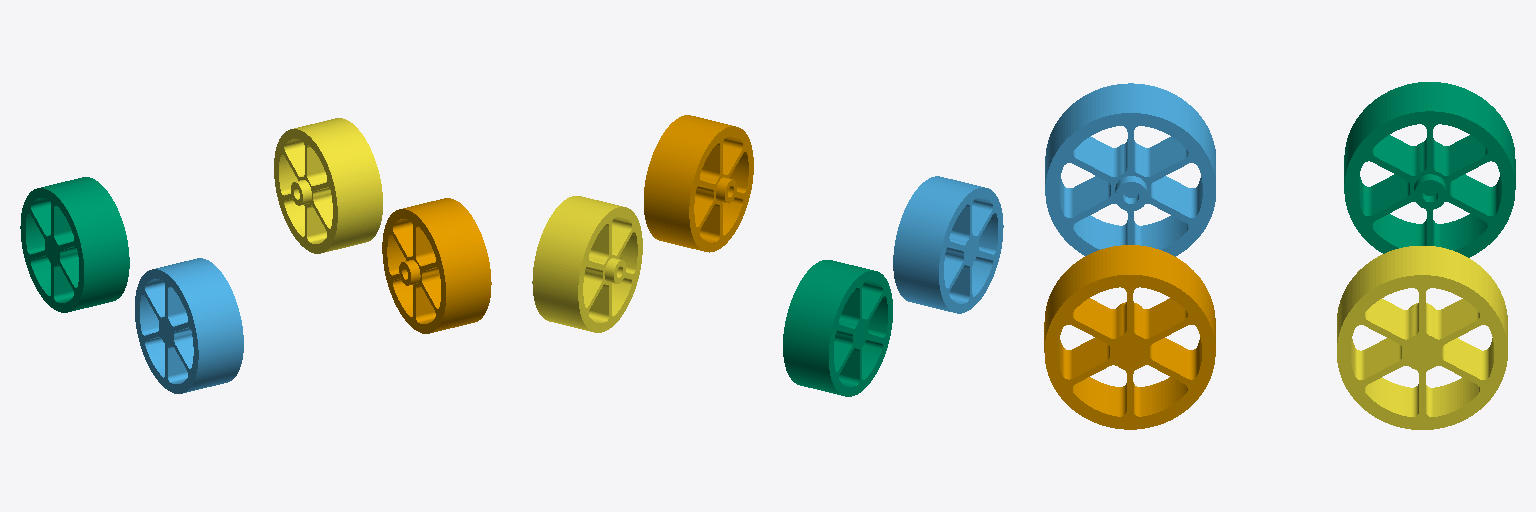
robot.urdf — autonomous_vehicle:
<?xml version="1.0"?>
<robot name="autonomous_vehicle">
	<link name="frontLeftWheelLink">
		<inertial>
			<origin xyz="0 0 0" rpy="0 0 0" />
			<mass value="10" />
			<inertia ixx="10" ixy="10" ixz="10" iyy="10" iyz="10" izz="10" />
		</inertial>
		<visual>
			<origin xyz="0 0 0" rpy="0 0 0" />
			<geometry>
				<mesh filename="model://autonomous_vehicle/meshes/dae/chas-Cut.003.dae" scale="0.02678 0.02678 0.02678" />
			</geometry>
		</visual>
		<collision>
			<origin xyz="0 0 0" rpy="0 0 0" />
			<geometry>
				<mesh filename="model://autonomous_vehicle/meshes/dae/chas-Cut.004.dae" scale="1.0 1.0 1.0" />
			</geometry>
		</collision>
	</link>

	<link name="frontRightWheelLink">
		<inertial>
			<origin xyz="0 0 0" rpy="0 0 0" />
			<mass value="10" />
			<inertia ixx="10" ixy="10" ixz="10" iyy="10" iyz="10" izz="10" />
		</inertial>
		<visual>
			<origin xyz="0 0 0" rpy="0 0 0" />
			<geometry>
				<mesh filename="model://autonomous_vehicle/meshes/dae/chas-Cut.dae" scale="0.02678 0.02678 0.02678" />
			</geometry>
		</visual>
		<collision>
			<origin xyz="0 0 0" rpy="0 0 0" />
			<geometry>
				<mesh filename="model://autonomous_vehicle/meshes/dae/chas-Cut.006.dae" scale="1.0 1.0 1.0" />
			</geometry>
		</collision>
	</link>

	<link name="rearRightWheelLink">
		<inertial>
			<origin xyz="0 0 0" rpy="0 0 0" />
			<mass value="10" />
			<inertia ixx="10" ixy="10" ixz="10" iyy="10" iyz="10" izz="10" />
		</inertial>
		<visual>
			<origin xyz="0 0 0" rpy="0 0 0" />
			<geometry>
				<mesh filename="model://autonomous_vehicle/meshes/dae/chas-Cut.001.dae" scale="0.02678 0.02678 0.02678" />
			</geometry>
		</visual>
		<collision>
			<origin xyz="0 0 0" rpy="0 0 0" />
			<geometry>
				<mesh filename="model://autonomous_vehicle/meshes/dae/chas-Cut.007.dae" scale="1.0 1.0 1.0" />
			</geometry>
		</collision>
	</link>

	<link name="rearLeftWheelLink">
		<inertial>
			<origin xyz="0 0 0" rpy="0 0 0" />
			<mass value="10" />
			<inertia ixx="10" ixy="10" ixz="10" iyy="10" iyz="10" izz="10" />
		</inertial>
		<visual>
			<origin xyz="0 0 0" rpy="0 0 0" />
			<geometry>
				<mesh filename="model://autonomous_vehicle/meshes/dae/chas-Cut.002.dae" scale="0.02678 0.02678 0.02678" />
			</geometry>
		</visual>
		<collision>
			<origin xyz="0 0 0" rpy="0 0 0" />
			<geometry>
				<mesh filename="model://autonomous_vehicle/meshes/dae/chas-Cut.005.dae" scale="1.0 1.0 1.0" />
			</geometry>
		</collision>
	</link>

	<link name="chassisLink">
		<inertial>
			<origin xyz="0 0 0" rpy="0 0 0" />
			<mass value="2" />
			<inertia ixx="10" ixy="10" ixz="10" iyy="10" iyz="10" izz="10" />
		</inertial>
		<visual>
			<origin xyz="0 0 0" rpy="0 0 0" />
			<geometry>
				<mesh filename="model://autonomous_vehicle/meshes/dae/Bottom.002.dae" scale="0.01431 0.01431 0.01431" />
			</geometry>
		</visual>
		<collision>
			<origin xyz="0 0 0" rpy="0 0 0" />
			<geometry>
				<mesh filename="model://autonomous_vehicle/meshes/dae/Bottom.003.dae" scale="1.0 1.0 1.0" />
			</geometry>
		</collision>
	</link>

	<link name="onboardCameraLink">
		<inertial>
			<origin xyz="0 0 0" rpy="0 0 0" />
			<mass value="0.1" />
			<inertia ixx="10" ixy="10" ixz="10" iyy="10" iyz="10" izz="10" />
		</inertial>
	</link>

	<link name="mapCameraLink" />

	<joint name="onboardCameraJoint" type="fixed">
		<origin xyz="0 -3.2 0.4" rpy="0 0 -1.57" />
		<parent link="chassisLink" />
		<child link="onboardCameraLink" />
		<axis xyz="0 0 1.0" />
	</joint>

	<joint name="mapCameraJoint" type="fixed">
		<origin xyz="0 0 20" rpy="0 1.57 -1.57" />
		<parent link="chassisLink" />
		<child link="mapCameraLink" />
		<axis xyz="0 0 1.0" />
	</joint>


	<joint name="frontLeftWheelJoint" type="continuous">
		<origin xyz="2.02598 -1.53082 -0.05739" rpy="1.5708 0 -1.5708" />
		<parent link="chassisLink" />
		<child link="frontLeftWheelLink" />
		<axis xyz="0 0 1.0" />
	</joint>

	<joint name="frontRightWheelJoint" type="continuous">
		<origin xyz="-2.01372 -1.51765 -0.05739" rpy="1.5708 0 1.5708" />
		<parent link="chassisLink" />
		<child link="frontRightWheelLink" />
		<axis xyz="0 0 1.0" />
	</joint>

	<joint name="rearRightWheelJoint" type="continuous">
		<origin xyz="-2.04563 0.93075 -0.05739" rpy="1.5708 0 1.5708" />
		<parent link="chassisLink" />
		<child link="rearRightWheelLink" />
		<axis xyz="0 0 1.0" />
	</joint>

	<joint name="rearLeftWheelJoint" type="continuous">
		<origin xyz="2.03577 0.86208 -0.05739" rpy="1.5708 0 -1.5708" />
		<parent link="chassisLink" />
		<child link="rearLeftWheelLink" />
		<axis xyz="0 0 1.0" />
	</joint>

	<gazebo>
		<plugin name="gazebo_ros_control" filename="libgazebo_ros_control.so">
			<robotNamespace>/autonomous_vehicle</robotNamespace>
		</plugin>
	</gazebo>

	<gazebo reference="onboardCameraLink">
		<sensor name='cam_sensor' type='camera'>
			<pose>1.8 0.5 0.75 0 0 -1.57</pose>
			<update_rate>20.000000</update_rate>
			<camera name='onboardCameraLink'>
				<horizontal_fov>1.570000</horizontal_fov>
				<image>
					<width>320</width>
					<height>240</height>
					<format>R8G8B8</format>
				</image>
				<clip>
					<near>0.100000</near>
					<far>99.000000</far>
				</clip>
			</camera>
			<plugin name="camera_controller" filename="libgazebo_ros_camera.so">
				<alwaysOn>true</alwaysOn>
				<updateRate>0.0</updateRate>
				<cameraName>onboard_camera</cameraName>
				<imageTopicName>image_raw</imageTopicName>
				<cameraInfoTopicName>camera_info</cameraInfoTopicName>
				<frameName>camera_top_body</frameName>
				<hackBaseline>0.07</hackBaseline>
				<distortionK1>0.0</distortionK1>
				<distortionK2>0.0</distortionK2>
				<distortionK3>0.0</distortionK3>
				<distortionT1>0.0</distortionT1>
				<distortionT2>0.0</distortionT2>
			</plugin>
		</sensor>
	</gazebo>

	<gazebo reference="mapCameraLink">
		<sensor name='cam_sensor' type='camera'>
			<pose>0 0 20 0 1.57 -1.57</pose>
			<update_rate>30.000000</update_rate>
			<camera name='mapCameraLink'>
				<horizontal_fov>1.570000</horizontal_fov>
				<image>
					<width>320</width>
					<height>240</height>
					<format>R8G8B8</format>
				</image>
				<clip>
					<near>0.100000</near>
					<far>60.000000</far>
				</clip>
			</camera>
			<plugin name="camera_controller" filename="libgazebo_ros_camera.so">
				<alwaysOn>true</alwaysOn>
				<updateRate>0.0</updateRate>
				<cameraName>map_camera</cameraName>
				<imageTopicName>image_raw</imageTopicName>
				<cameraInfoTopicName>camera_info</cameraInfoTopicName>
				<frameName>camera_top_body</frameName>
				<hackBaseline>0.07</hackBaseline>
				<distortionK1>0.0</distortionK1>
				<distortionK2>0.0</distortionK2>
				<distortionK3>0.0</distortionK3>
				<distortionT1>0.0</distortionT1>
				<distortionT2>0.0</distortionT2>
			</plugin>
		</sensor>
	</gazebo>


	<transmission name="frontRightWheelTransmission">
		<type>transmission_interface/SimpleTransmission</type>
		<actuator name="frontRightMotor">
			<mechanicalReduction>1</mechanicalReduction>
		</actuator>
		<joint name="frontRightWheelJoint">
			<hardwareInterface>hardware_interface/VelocityJointInterface</hardwareInterface>
		</joint>
	</transmission>

	<transmission name="frontLeftWheelTransmission">
		<type>transmission_interface/SimpleTransmission</type>
		<actuator name="frontLeftMotor">
			<mechanicalReduction>1</mechanicalReduction>
			<hardwareInterface>hardware_interface/VelocityJointInterface</hardwareInterface>
		</actuator>
		<joint name="frontLeftWheelJoint">
			<hardwareInterface>hardware_interface/VelocityJointInterface</hardwareInterface>
		</joint>
	</transmission>

	<transmission name="backRigthWheelTransmission">
		<type>transmission_interface/SimpleTransmission</type>
		<actuator name="rearRightMotor">
			<mechanicalReduction>1</mechanicalReduction>
			<hardwareInterface>hardware_interface/VelocityJointInterface</hardwareInterface>
		</actuator>
		<joint name="rearRightWheelJoint">
			<hardwareInterface>hardware_interface/VelocityJointInterface</hardwareInterface>
		</joint>
	</transmission>

	<transmission name="backLeftWheelTransmission">
		<type>transmission_interface/SimpleTransmission</type>
		<actuator name="rearLeftMotor">
			<mechanicalReduction>1</mechanicalReduction>
			<hardwareInterface>hardware_interface/VelocityJointInterface</hardwareInterface>
		</actuator>
		<joint name="rearLeftWheelJoint">
			<hardwareInterface>hardware_interface/VelocityJointInterface</hardwareInterface>
		</joint>
	</transmission>

	<gazebo reference="chassisLink">
		<material>Gazebo/White</material>
	</gazebo>

	<gazebo reference="frontRightWheelLink">
		<material>Gazebo/Gray</material>
	</gazebo>

	<gazebo reference="frontLeftWheelLink">
		<material>Gazebo/Gray</material>
	</gazebo>

	<gazebo reference="rearRightWheelLink">
		<material>Gazebo/Gray</material>
	</gazebo>

	<gazebo reference="rearLeftWheelLink">
		<material>Gazebo/Gray</material>
	</gazebo>

	<gazebo reference="onboardCameraLink">
		<material>Gazebo/Green</material>
	</gazebo>

	<gazebo reference="mapCameraLink">
		<material>Gazebo/Green</material>
	</gazebo>

</robot>

--- Facts derived from the render (not from the file) ---
Views: 3 orthographic renders of the robot side by side, from view 1: azimuth 30°, elevation 25°; view 2: azimuth 150°, elevation 25°; view 3: azimuth 270°, elevation 25°.
Robot: autonomous_vehicle — 7 links, 6 joints (4 continuous, 2 fixed); root link chassisLink; default pose: every joint at zero.
Links seen in each view (by area): view 1: rearLeftWheelLink, rearRightWheelLink, frontLeftWheelLink, frontRightWheelLink; view 2: rearLeftWheelLink, frontLeftWheelLink, rearRightWheelLink, frontRightWheelLink; view 3: frontLeftWheelLink, rearLeftWheelLink, rearRightWheelLink, frontRightWheelLink.
Link boxes in pixels (box(x1,y1,x2,y2)): rearLeftWheelLink: box(274, 118, 382, 253); rearRightWheelLink: box(20, 177, 129, 312); frontLeftWheelLink: box(382, 198, 491, 333); frontRightWheelLink: box(135, 258, 243, 393); rearLeftWheelLink: box(532, 196, 642, 332); frontLeftWheelLink: box(644, 115, 753, 252); rearRightWheelLink: box(783, 260, 892, 396); frontRightWheelLink: box(893, 176, 1003, 313); frontLeftWheelLink: box(1044, 245, 1215, 429); rearLeftWheelLink: box(1337, 246, 1507, 429); rearRightWheelLink: box(1344, 82, 1515, 257); frontRightWheelLink: box(1045, 83, 1215, 256).
Bounding box of the posed robot: 3.74 × 3.86 × 1.4 m (x, y, z).
Meshes: 5 distinct files referenced, 4 mesh visuals loaded (4 Collada DAE); not drawn: 1 (reference not matched to a file when rendering).
